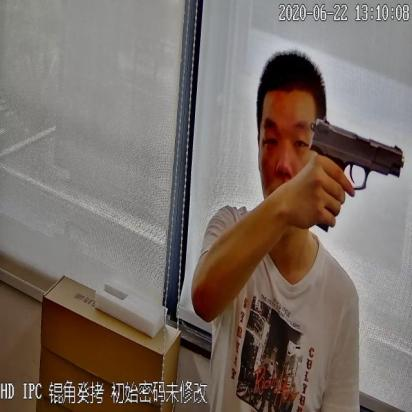Gun: (300, 114, 402, 231)
